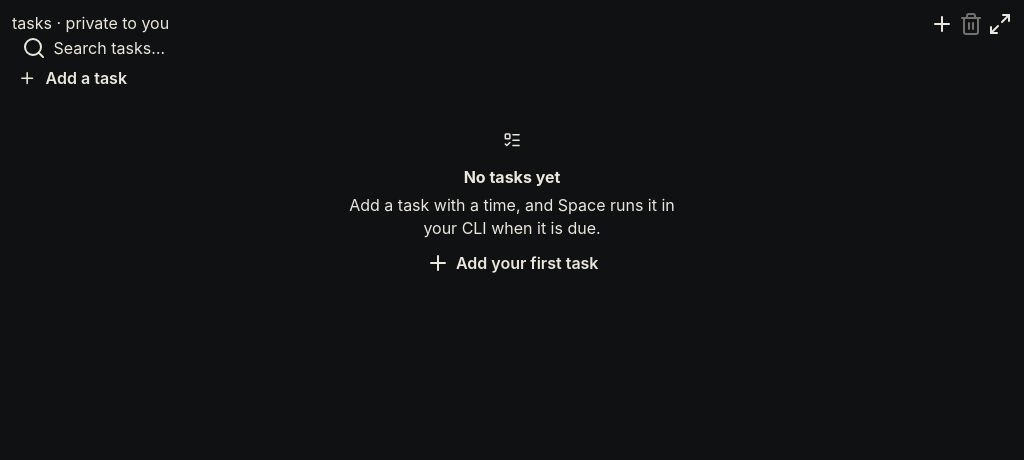
Scenario: TaskDock › shows an empty state when no tasks match
Expected: the text "No tasks yet" is shown, [464,167,560,187]
Click the button "Add your first task". click: [512, 263]
box: [413,251,611,275]
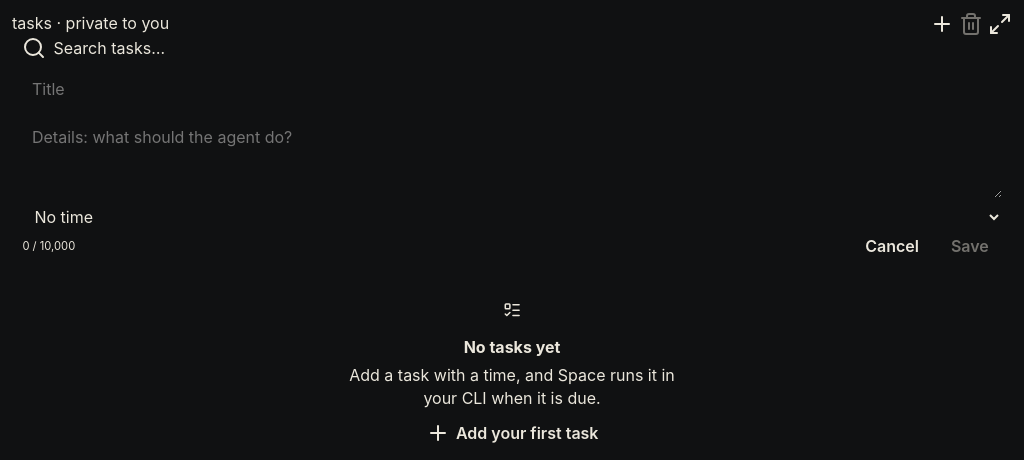
Expected: the field named "Task title" is shown, [22,70,1002,110]
Type "nothing" into the search field labelled "Search tasks". click: [530, 48]
box: [54,36,1007,60]
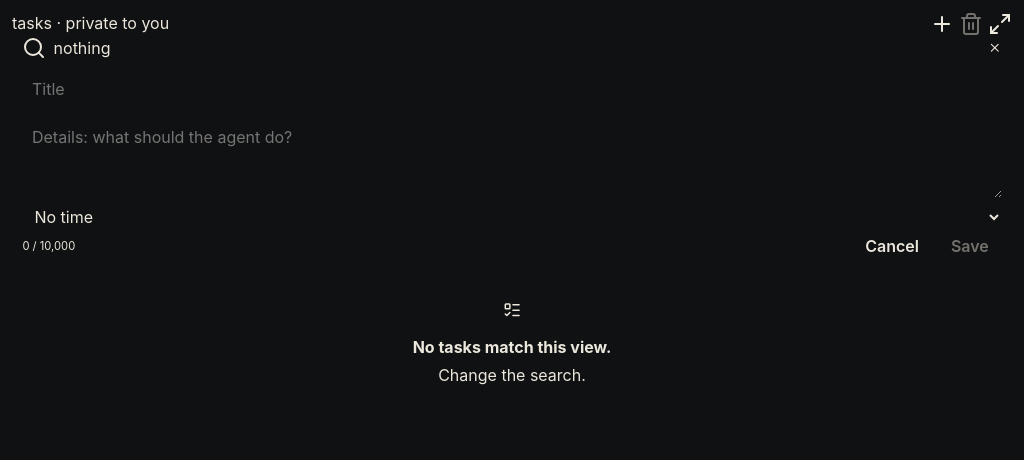
Expected: the text "No tasks match this view." is shown, [413,337,611,357]
